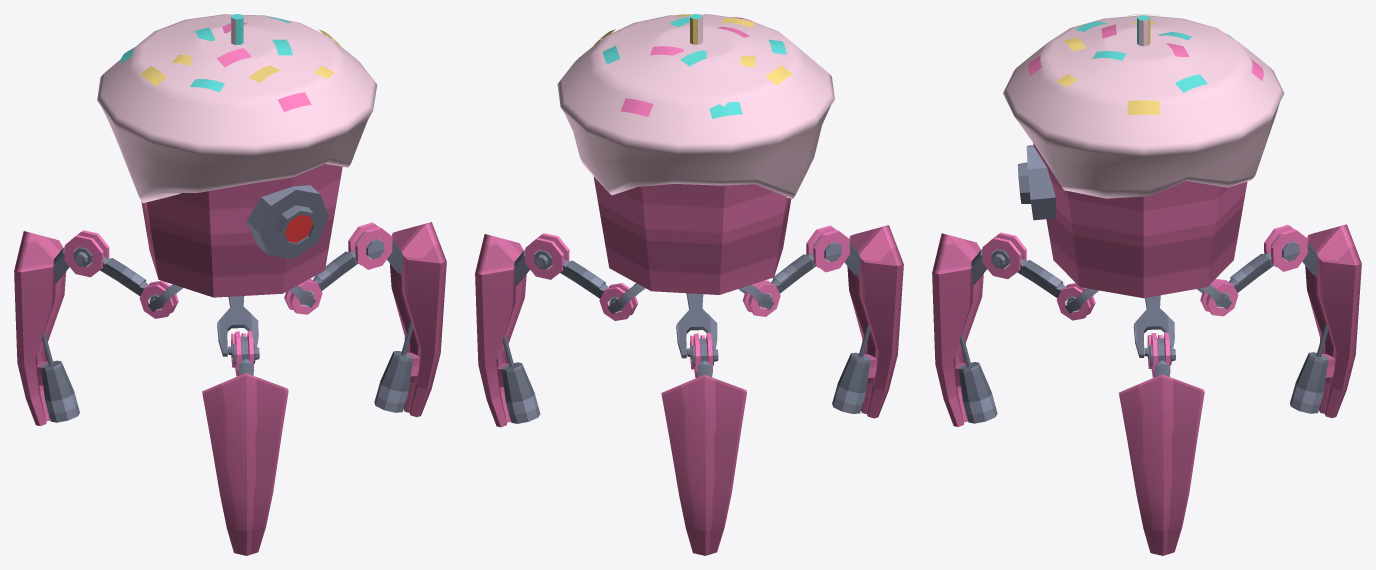
The model's file is CupcakeDrone_Asset_v01.fbx.
3 renders of one model, left to right at view 1: azimuth 30°, elevation 25°; view 2: azimuth 150°, elevation 25°; view 3: azimuth 270°, elevation 25°, orthographic.
Visible parts, largest first — view 1: Topping, Legs4, Base; view 2: Topping, Legs4, Base; view 3: Topping, Legs4, Base.
Boxes of the visible parts, left/top/right/bottom form: Topping: left=97, top=14, right=377, bottom=202; Legs4: left=14, top=222, right=446, bottom=555; Base: left=141, top=164, right=342, bottom=297; Topping: left=557, top=14, right=834, bottom=198; Legs4: left=475, top=225, right=903, bottom=555; Base: left=593, top=176, right=791, bottom=294; Topping: left=1003, top=14, right=1284, bottom=198; Legs4: left=932, top=224, right=1361, bottom=555; Base: left=1017, top=143, right=1247, bottom=298.
Bounding box in the file's own units: 141 × 175 × 153.
1 material, 1 textured.
